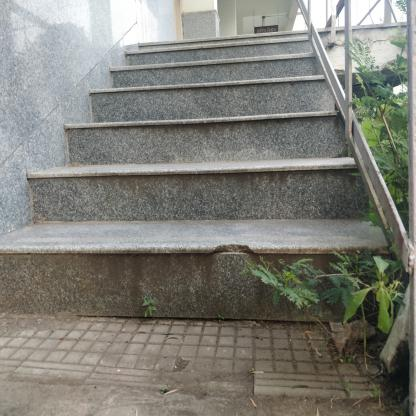stairs: (67, 74, 260, 341)
